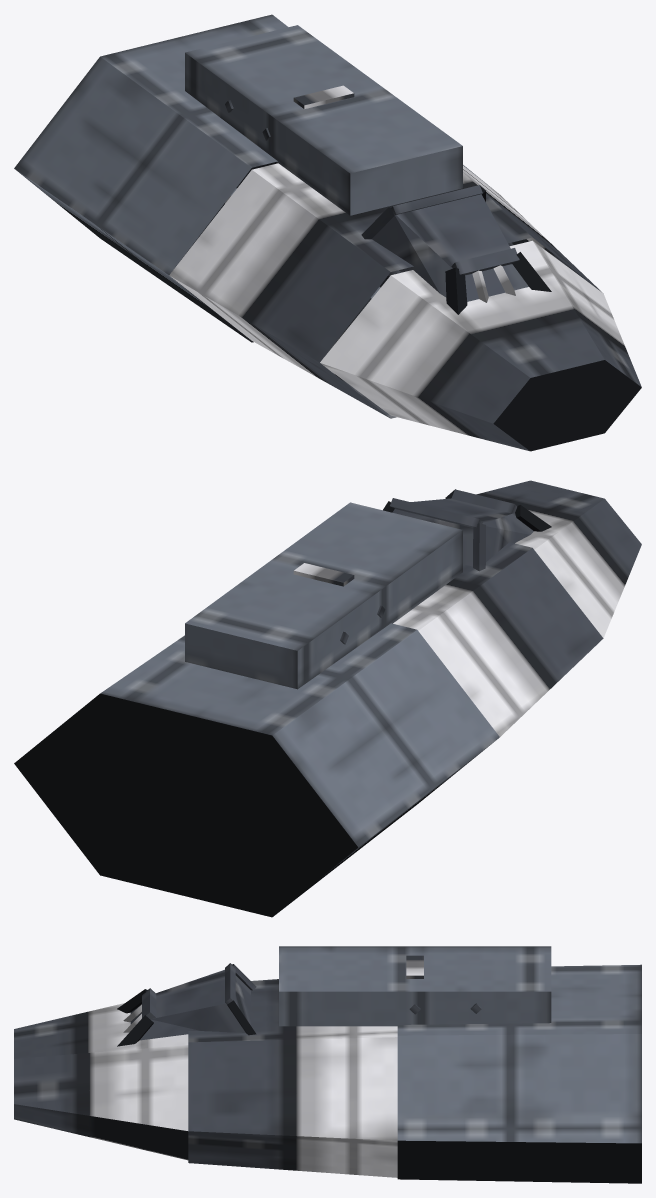
The model's file is ship_lab_cockpit.obj.
The picture shows the model from 3 angles, top to bottom: view 1: azimuth 30°, elevation 25°; view 2: azimuth 150°, elevation 25°; view 3: azimuth 270°, elevation 25°; orthographic projection. The views are drawn at different scales.
Parts seen in each view (by area): view 1: hull, bay, canopy, frame, leds; view 2: hull, bay, canopy, frame, leds; view 3: hull, bay, canopy, frame, leds.
Boxes of the visible parts, x1=… form: hull: x1=14, y1=14, x2=641, y2=451; bay: x1=185, y1=25, x2=462, y2=215; canopy: x1=372, y1=194, x2=528, y2=301; frame: x1=361, y1=185, x2=551, y2=314; leds: x1=293, y1=85, x2=354, y2=108; hull: x1=14, y1=480, x2=641, y2=917; bay: x1=185, y1=502, x2=462, y2=689; canopy: x1=392, y1=498, x2=533, y2=566; frame: x1=383, y1=489, x2=551, y2=571; leds: x1=293, y1=563, x2=354, y2=586; hull: x1=14, y1=964, x2=641, y2=1183; bay: x1=279, y1=946, x2=551, y2=1026; canopy: x1=130, y1=969, x2=250, y2=1040; frame: x1=117, y1=963, x2=256, y2=1046; leds: x1=406, y1=955, x2=423, y2=978.
Bounding box in the file's own units: 1.88 × 1.16 × 3.6.
Materials: 6 (6 with a texture image).
